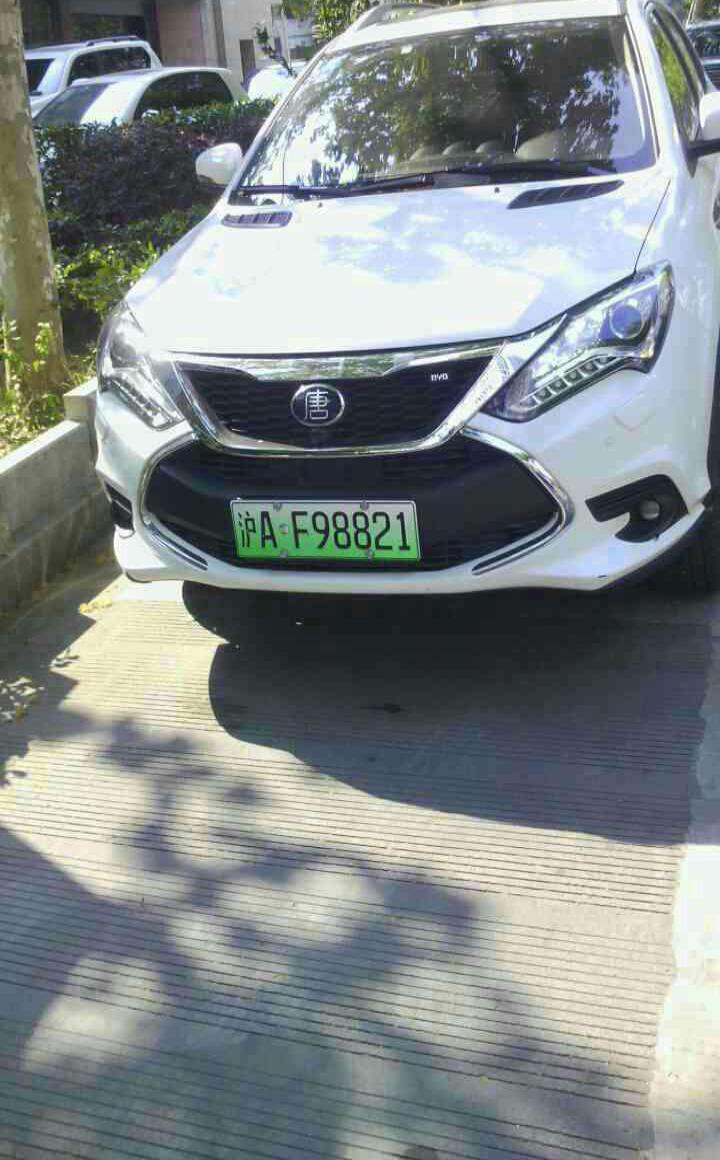car: (224, 499, 428, 573)
